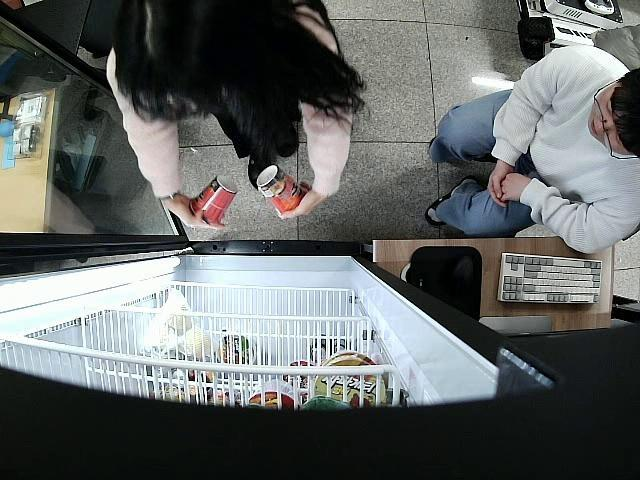02_shinRamen_S: (189, 174, 240, 226), (257, 165, 310, 214)
